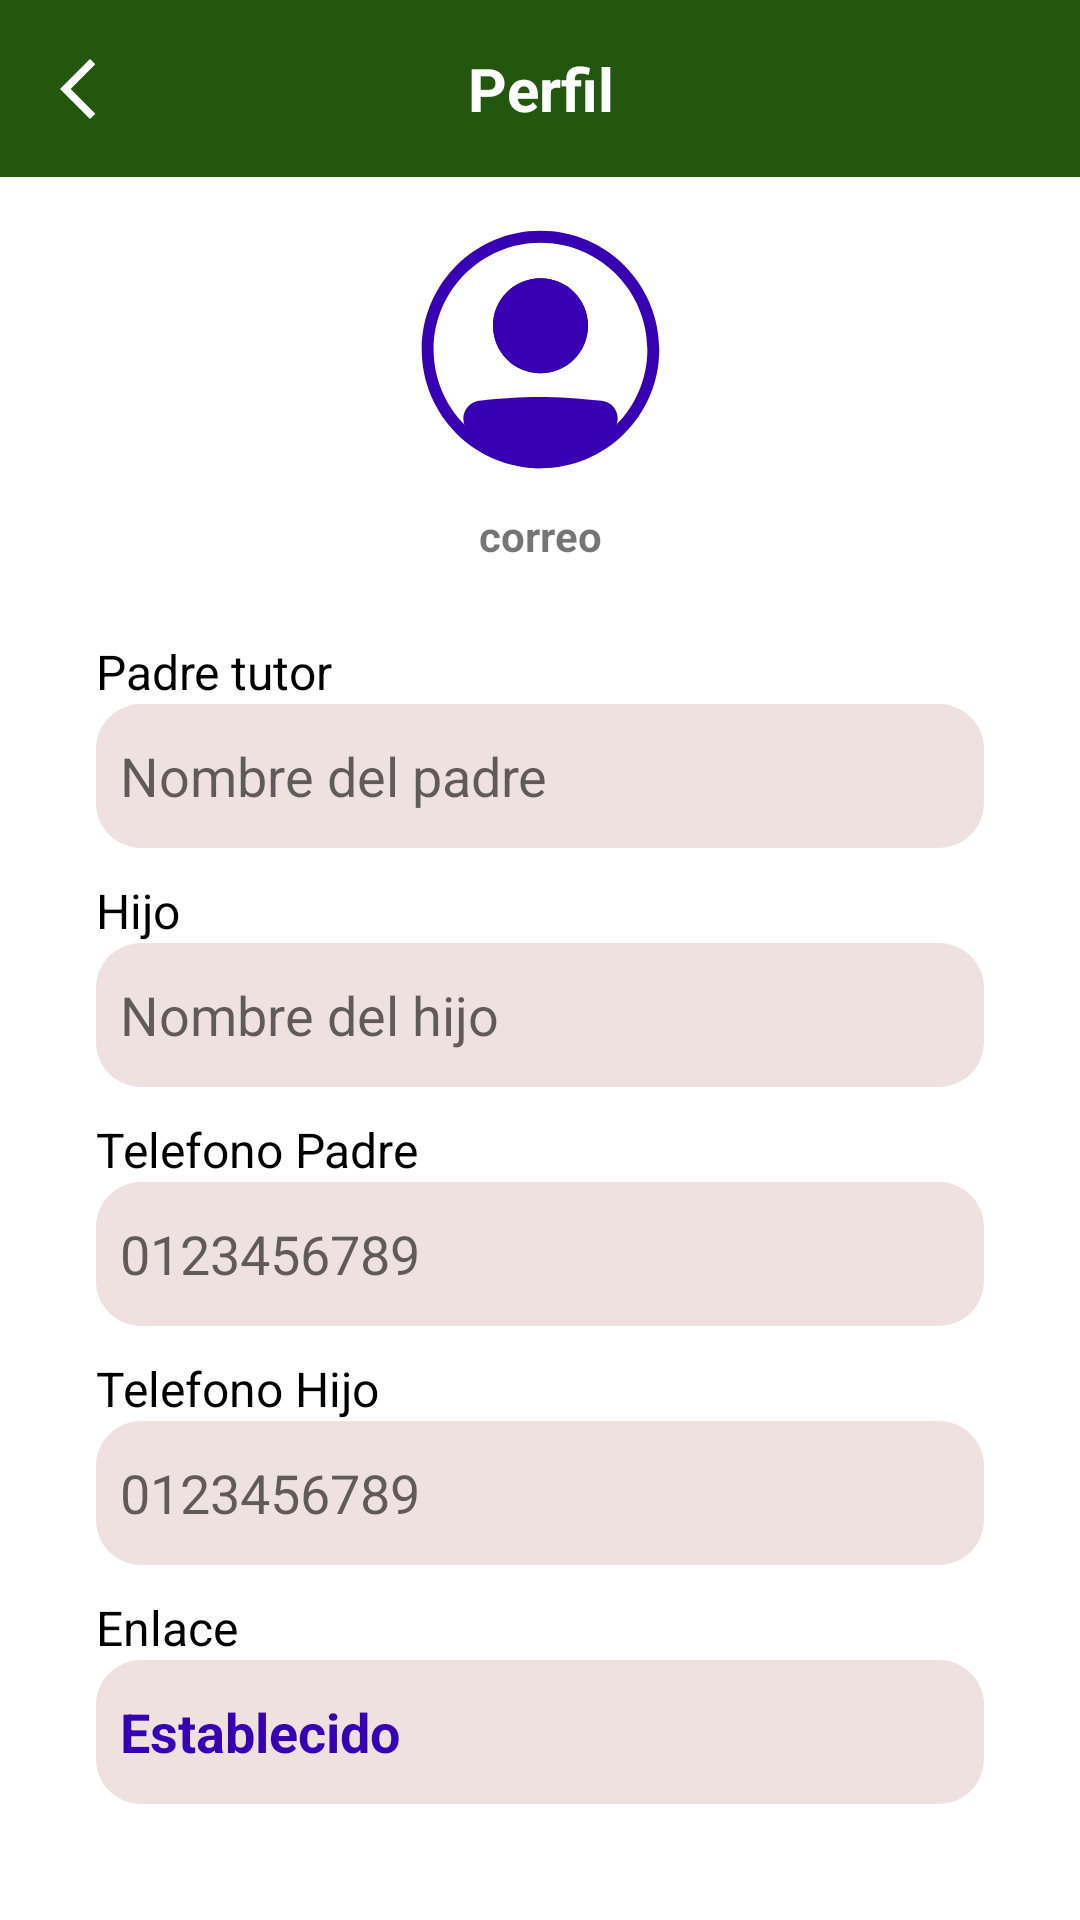

Where icons sit on this 1080×1920 app screen, as (x1, y1, x2, y2):
left: (60, 59, 95, 119)
